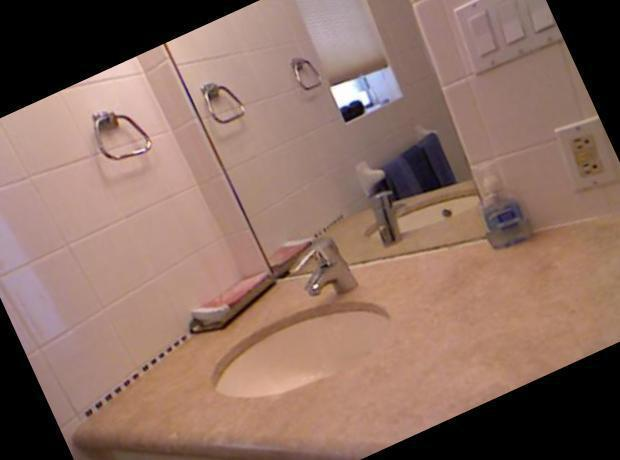Lavamanos: (165, 210, 421, 452)
